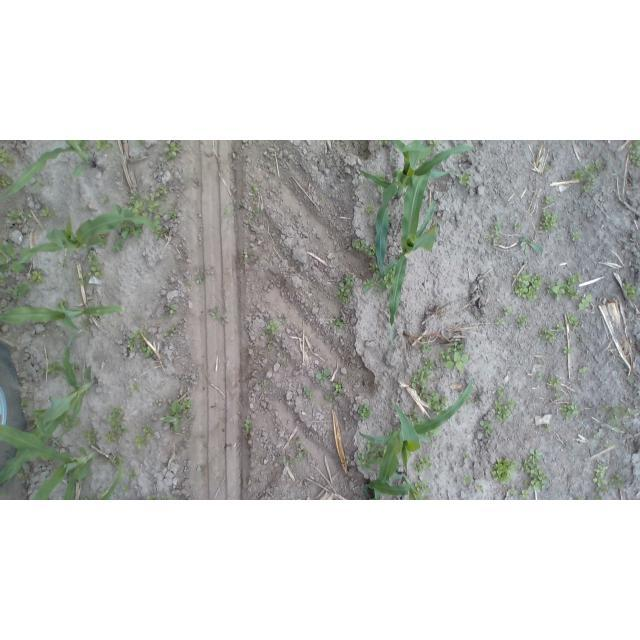Maize: (361, 140, 472, 284), (2, 329, 99, 486), (375, 170, 451, 351), (359, 380, 473, 483), (7, 211, 158, 273), (0, 424, 96, 499), (3, 143, 101, 196), (0, 300, 124, 331), (366, 473, 420, 500), (100, 457, 121, 500)
Weeds: (128, 188, 170, 216), (523, 448, 552, 488), (570, 160, 603, 192), (439, 343, 472, 374), (164, 397, 193, 432), (513, 271, 545, 302), (0, 241, 26, 277), (550, 273, 583, 301), (492, 456, 520, 486), (111, 229, 143, 255), (126, 329, 154, 358), (356, 440, 381, 472), (412, 357, 434, 390), (337, 272, 356, 307), (419, 390, 447, 413), (86, 250, 106, 279), (539, 322, 566, 343), (135, 427, 154, 452), (40, 363, 67, 379), (484, 221, 501, 246), (323, 382, 344, 402), (593, 462, 608, 489), (560, 402, 581, 421), (542, 208, 558, 232), (9, 283, 30, 301), (519, 238, 542, 254), (162, 142, 179, 163), (413, 454, 431, 473), (262, 320, 282, 337), (194, 269, 215, 285), (354, 238, 375, 254), (600, 404, 616, 425), (122, 471, 137, 493), (109, 406, 126, 425), (83, 427, 100, 446), (293, 439, 307, 462), (495, 400, 509, 422), (629, 140, 640, 168), (106, 426, 125, 442), (1, 150, 17, 169), (5, 210, 24, 226), (546, 373, 566, 388), (94, 140, 115, 154), (356, 404, 374, 420), (315, 368, 331, 386), (624, 283, 639, 302), (152, 211, 164, 234), (576, 295, 592, 312), (609, 471, 623, 489), (146, 490, 170, 500), (404, 408, 420, 423), (17, 471, 31, 488), (479, 420, 493, 437), (565, 313, 579, 329), (414, 479, 431, 491), (244, 420, 255, 438), (618, 407, 635, 418), (29, 270, 44, 282), (458, 172, 470, 187), (224, 203, 235, 219), (418, 344, 434, 355), (519, 489, 535, 500), (302, 385, 313, 401), (362, 281, 375, 294), (384, 274, 394, 289), (368, 260, 380, 272), (73, 278, 89, 287), (429, 140, 441, 152), (164, 328, 177, 339), (166, 304, 179, 315), (495, 386, 508, 397), (1, 174, 12, 186), (39, 208, 51, 219), (169, 210, 180, 222), (18, 399, 30, 410), (208, 307, 220, 318), (516, 316, 527, 328), (570, 231, 582, 242), (335, 317, 346, 328), (58, 300, 70, 310), (495, 316, 507, 326), (578, 364, 589, 374), (554, 393, 564, 404), (131, 384, 140, 396), (542, 196, 554, 205), (98, 237, 106, 250), (251, 203, 260, 214), (71, 418, 83, 426), (463, 474, 471, 486), (34, 182, 47, 189), (592, 430, 602, 439), (505, 487, 515, 496), (366, 206, 375, 215), (220, 314, 228, 324), (79, 496, 99, 500), (513, 221, 521, 231), (377, 141, 392, 146), (250, 186, 259, 194), (504, 307, 513, 315), (185, 283, 192, 293), (474, 485, 484, 492), (535, 372, 542, 382), (102, 196, 111, 203), (577, 333, 584, 342), (564, 347, 573, 354), (544, 165, 552, 172), (593, 495, 603, 500), (281, 315, 286, 325), (605, 440, 612, 447), (508, 398, 514, 406), (545, 424, 552, 430), (135, 140, 145, 144), (260, 381, 268, 386), (462, 452, 468, 458), (267, 339, 274, 344), (79, 205, 86, 209), (577, 497, 586, 500)
